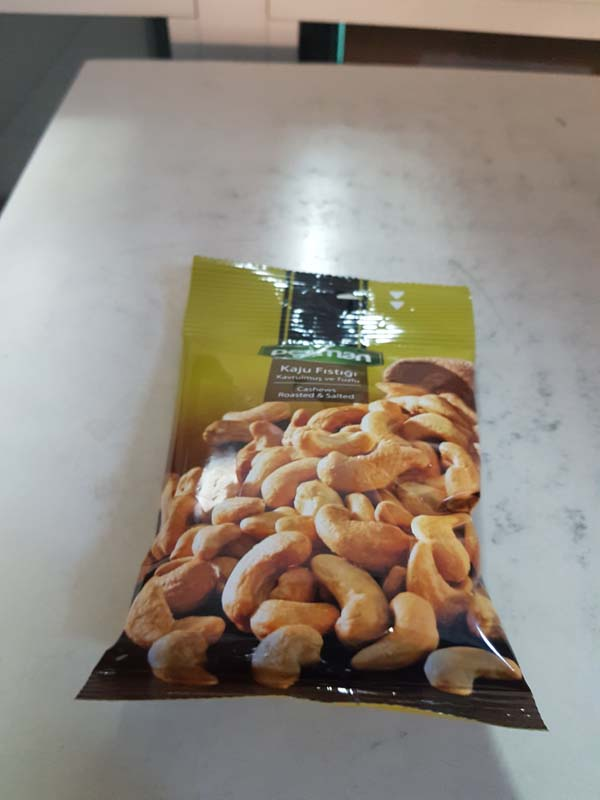kajupeyman: (62, 242, 557, 746)
